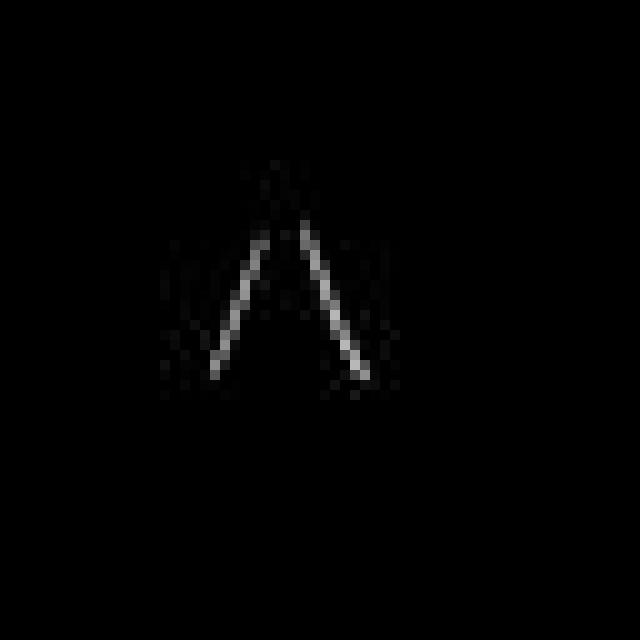8 -eight-: (188, 208, 392, 401)
